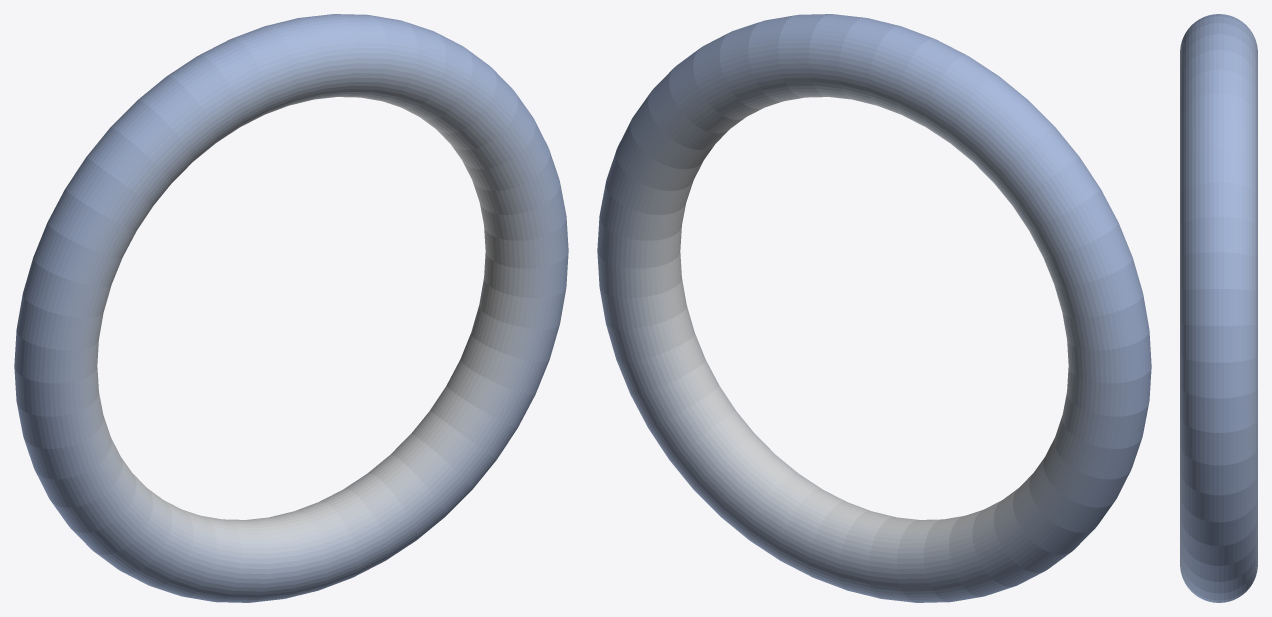
3 renders of one model, left to right at view 1: azimuth 30°, elevation 25°; view 2: azimuth 150°, elevation 25°; view 3: azimuth 270°, elevation 25°, orthographic. The views are drawn at different scales.
Visible parts, largest first — view 1: world; view 2: world; view 3: world.
Part boxes in pixels (x1,y1,x2,y2): world: (14,14,568,602); world: (597,14,1151,602); world: (1180,14,1257,602).
Bounding box in the file's own units: 29.2 × 29.14 × 3.86.
